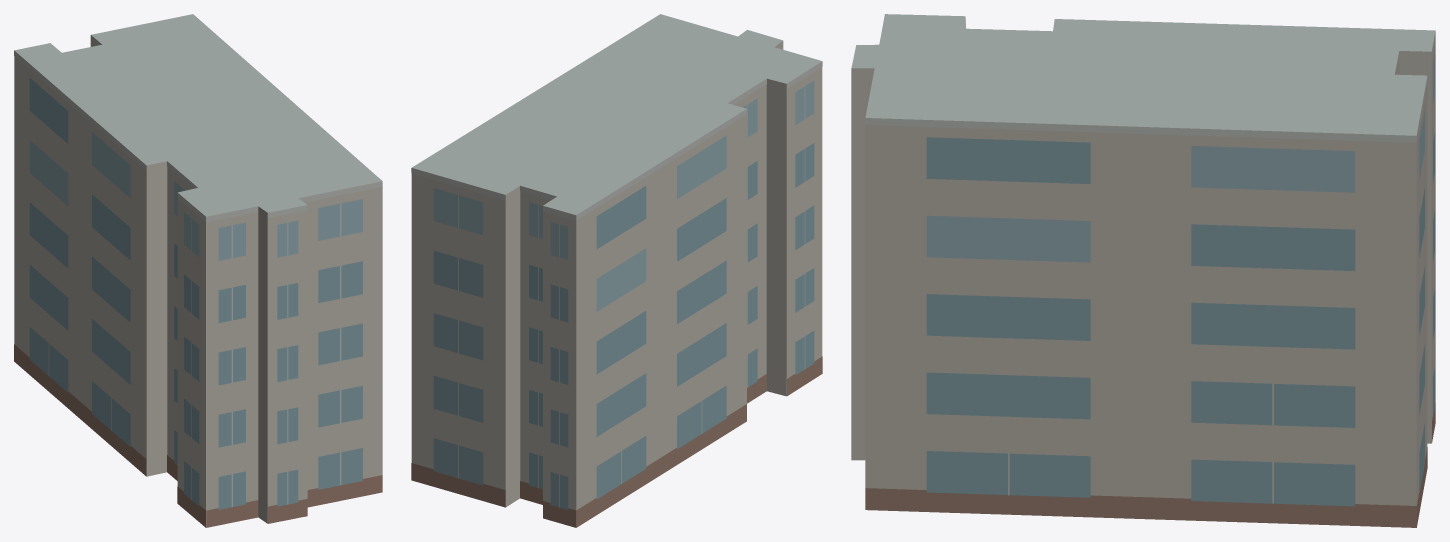
File: survey-upis-33029394.glb
The picture shows the model from 3 angles, left to right: view 1: azimuth 30°, elevation 25°; view 2: azimuth 150°, elevation 25°; view 3: azimuth 270°, elevation 25°; orthographic projection. The views are drawn at different scales.
Visible parts, largest first — view 1: survey-upis-33029394.tmp; view 2: survey-upis-33029394.tmp; view 3: survey-upis-33029394.tmp.
Part boxes in pixels (bbox=[...]): survey-upis-33029394.tmp: bbox=[14, 14, 382, 527]; survey-upis-33029394.tmp: bbox=[411, 14, 822, 527]; survey-upis-33029394.tmp: bbox=[851, 14, 1435, 527].
Size of the model in its own units: 9.07 by 13.6 by 18.38.
